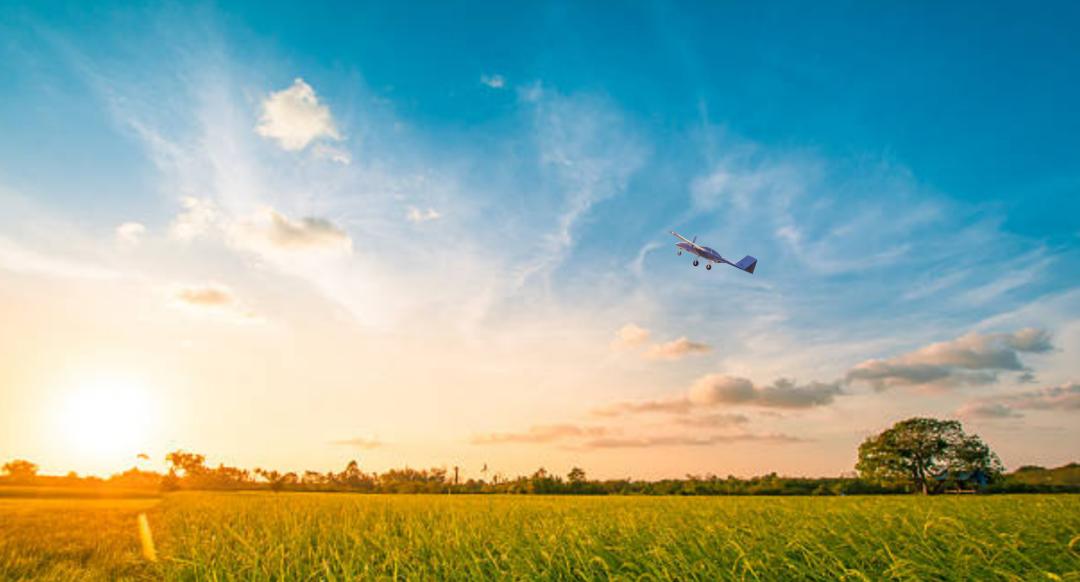military drone: (668, 230, 757, 274)
